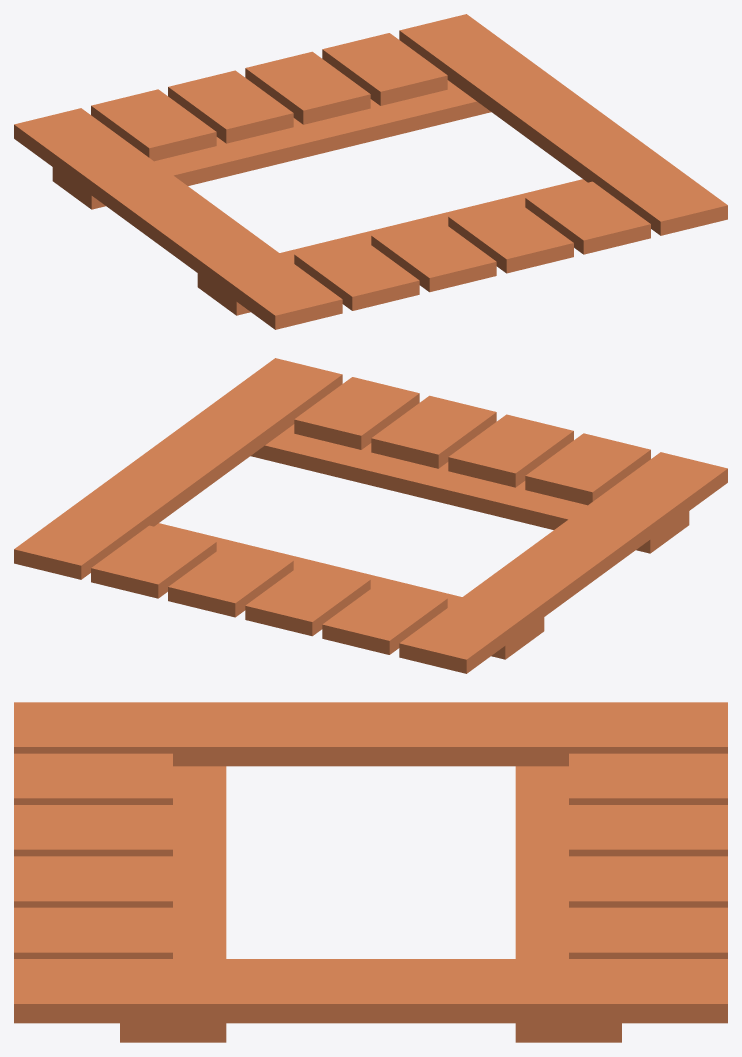
The model's file is planksOpening.fbx.
The picture shows the model from 3 angles, top to bottom: view 1: azimuth 30°, elevation 25°; view 2: azimuth 150°, elevation 25°; view 3: azimuth 270°, elevation 25°; orthographic projection. The views are drawn at different scales.
Parts seen in each view (by area): view 1: planksOpening; view 2: planksOpening; view 3: planksOpening.
Part boxes in pixels (box(x1,y1,x2,y2)): planksOpening: box(14, 14, 727, 329); planksOpening: box(14, 358, 727, 673); planksOpening: box(14, 702, 727, 1042).
Size of the model in its own units: 10 by 0.6 by 10.
